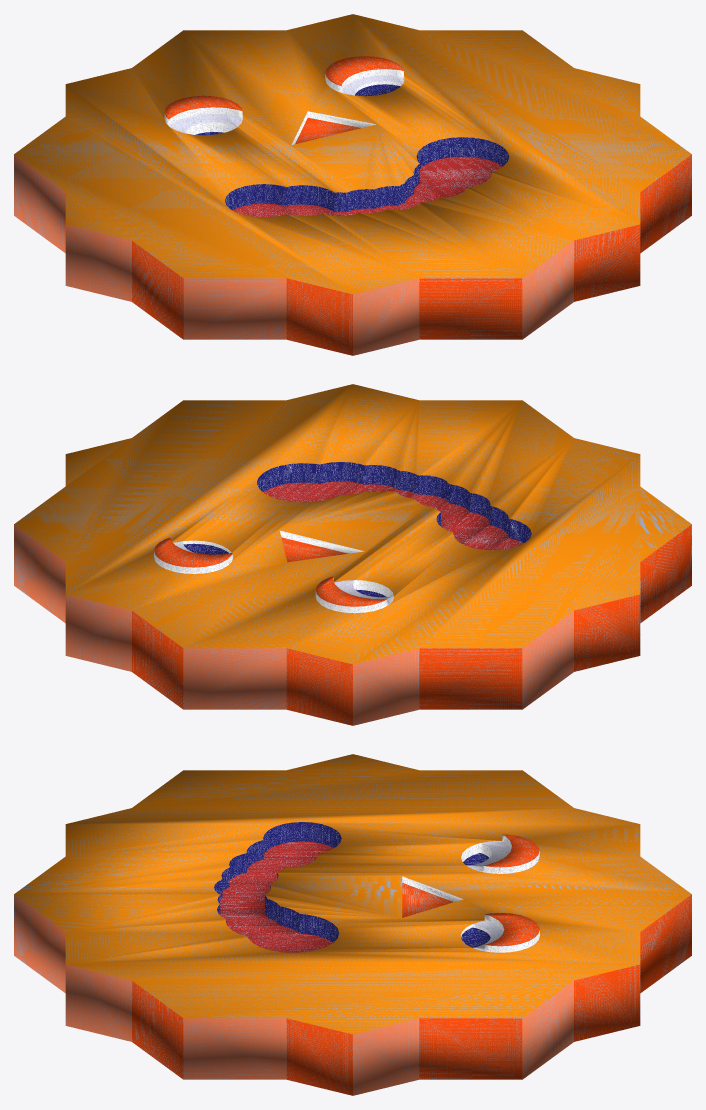
File: cookie.dae
3 views of the same model, one above another, from view 1: azimuth 30°, elevation 25°; view 2: azimuth 150°, elevation 25°; view 3: azimuth 270°, elevation 25° (orthographic).
Parts seen in each view (by area): view 1: group_0 (×20); view 2: group_0 (×18); view 3: group_0 (×18).
Part boxes in pixels (x1,y1,x2,y2): group_0 (×20): [14, 14, 691, 355]; group_0 (×18): [14, 384, 691, 725]; group_0 (×18): [14, 754, 691, 1095].
Size of the model in its own units: 73.23 by 74.82 by 8.27.
